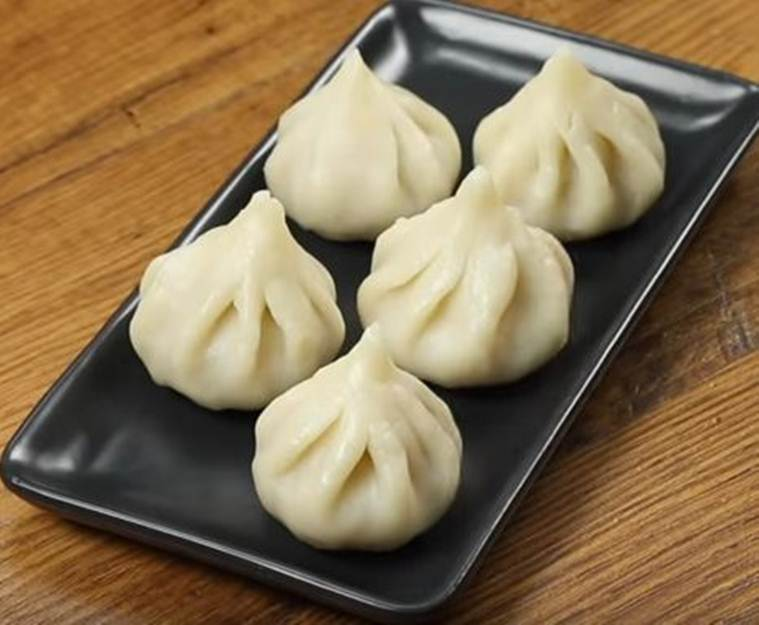modak: (245, 316, 469, 551), (375, 169, 581, 376), (129, 198, 338, 384), (477, 44, 675, 217), (266, 53, 471, 208)
